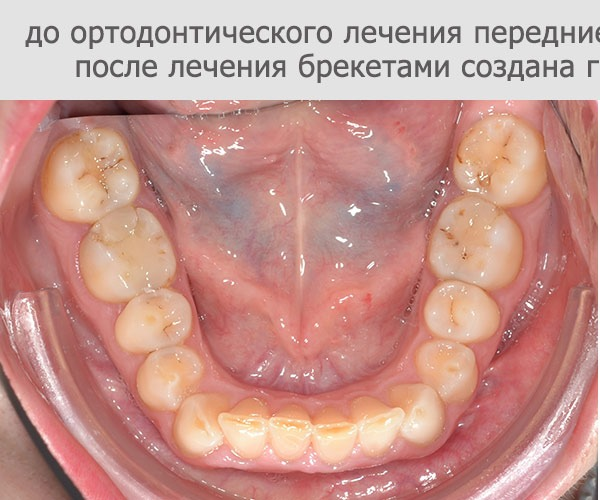LL1BC_healthy: (416, 343, 479, 401)
LL1M_decay: (427, 201, 523, 286)
LL2BC_decay: (424, 284, 499, 343)
LL2M_decay: (454, 118, 542, 201)
LLCI_decay: (310, 407, 357, 459)
LLC_healthy: (395, 383, 447, 440)
LLLI_healthy: (350, 395, 404, 456)
LR1BC_healthy: (140, 354, 201, 403)
LR1M_decay: (79, 209, 175, 290)
LR2BC_decay: (121, 293, 192, 348)
LR2M_decay: (44, 135, 138, 211)
LRCI_decay: (272, 399, 311, 458)
LRC_decay: (175, 390, 224, 459)
LRLI_decay: (221, 397, 268, 459)
